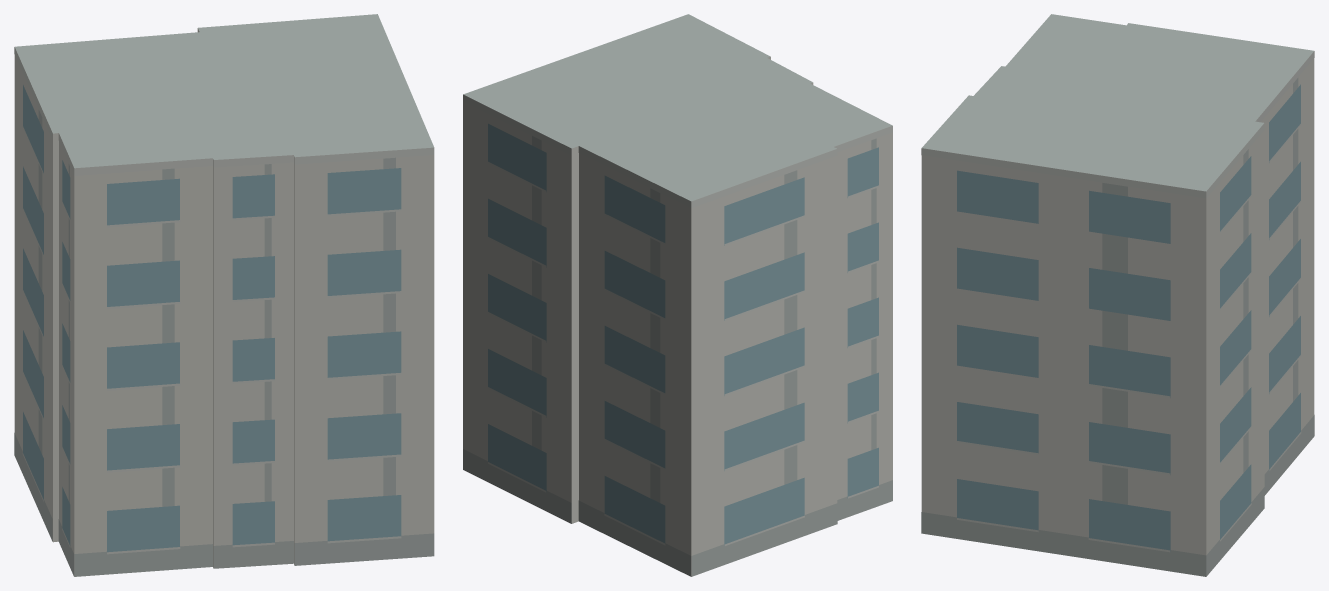
Rendered from survey-upis-32526522.glb.
3 views of the same model, side by side, from view 1: azimuth 30°, elevation 25°; view 2: azimuth 150°, elevation 25°; view 3: azimuth 270°, elevation 25° (orthographic). The views are drawn at different scales.
Parts seen in each view (by area): view 1: survey-upis-32526522.tmp; view 2: survey-upis-32526522.tmp; view 3: survey-upis-32526522.tmp.
Part boxes in pixels (x1=…): survey-upis-32526522.tmp: x1=14, y1=14, x2=434, y2=576; survey-upis-32526522.tmp: x1=463, y1=14, x2=892, y2=576; survey-upis-32526522.tmp: x1=921, y1=14, x2=1314, y2=576.
Size of the model in its own units: 13.05 by 13.2 by 12.21.
